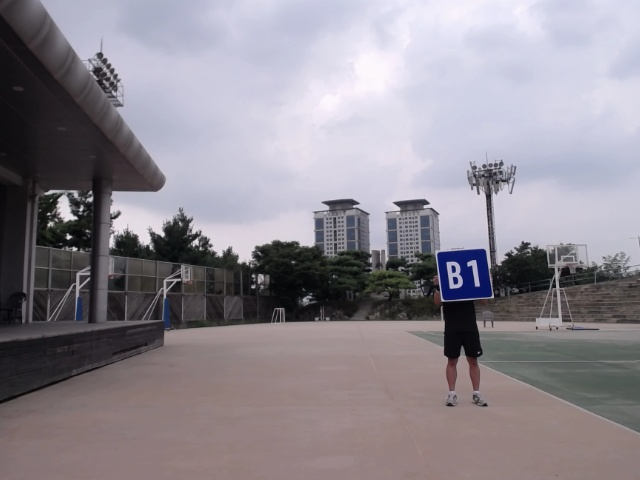delivery_b1: (437, 247, 493, 302)
